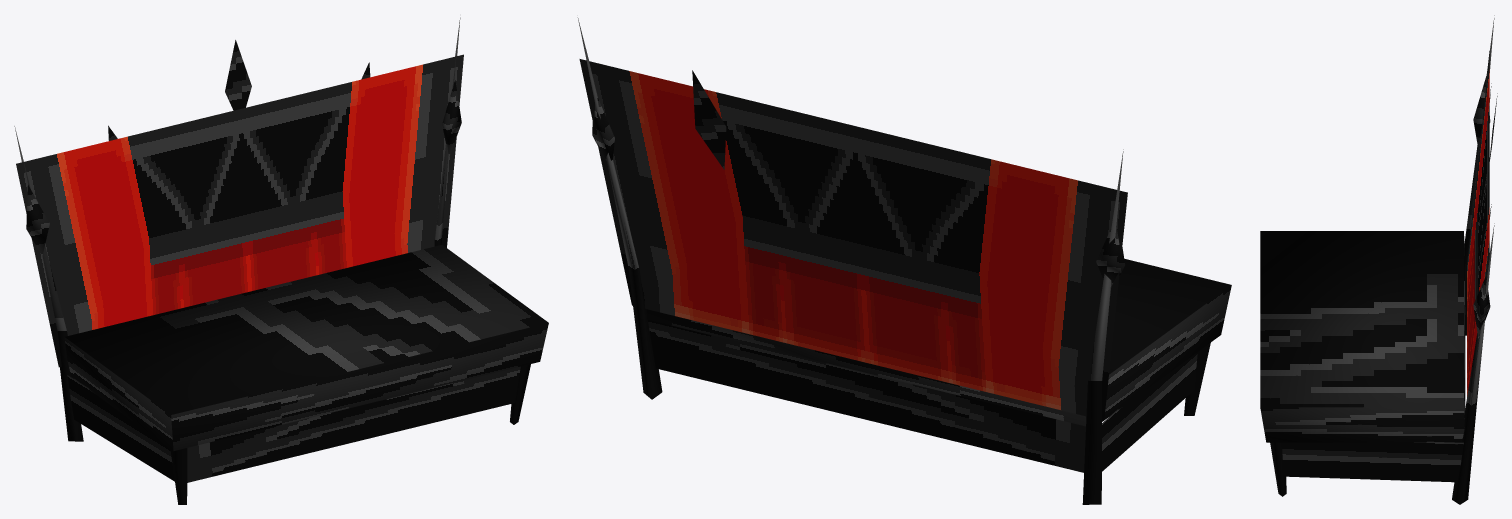
The picture shows the model from 3 angles, left to right: view 1: azimuth 30°, elevation 25°; view 2: azimuth 150°, elevation 25°; view 3: azimuth 270°, elevation 25°; orthographic projection. The views are drawn at different scales.
Parts seen in each view (by area): view 1: 3162IMFY04_04; view 2: 3162IMFY04_04; view 3: 3162IMFY04_04.
Boxes of the visible parts, box(x1,y1,x2,y2) form: 3162IMFY04_04: box(14, 17, 548, 504); 3162IMFY04_04: box(577, 17, 1231, 504); 3162IMFY04_04: box(1260, 15, 1497, 504).
Bounding box in the file's own units: 2 × 1.46 × 0.9609.
Materials: 1 (1 with a texture image).
